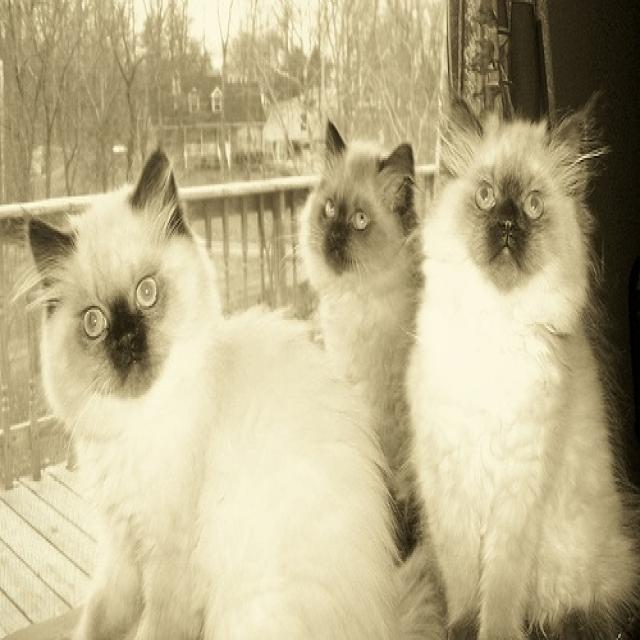cat: (26, 150, 394, 638), (401, 93, 638, 638), (298, 118, 425, 508)
